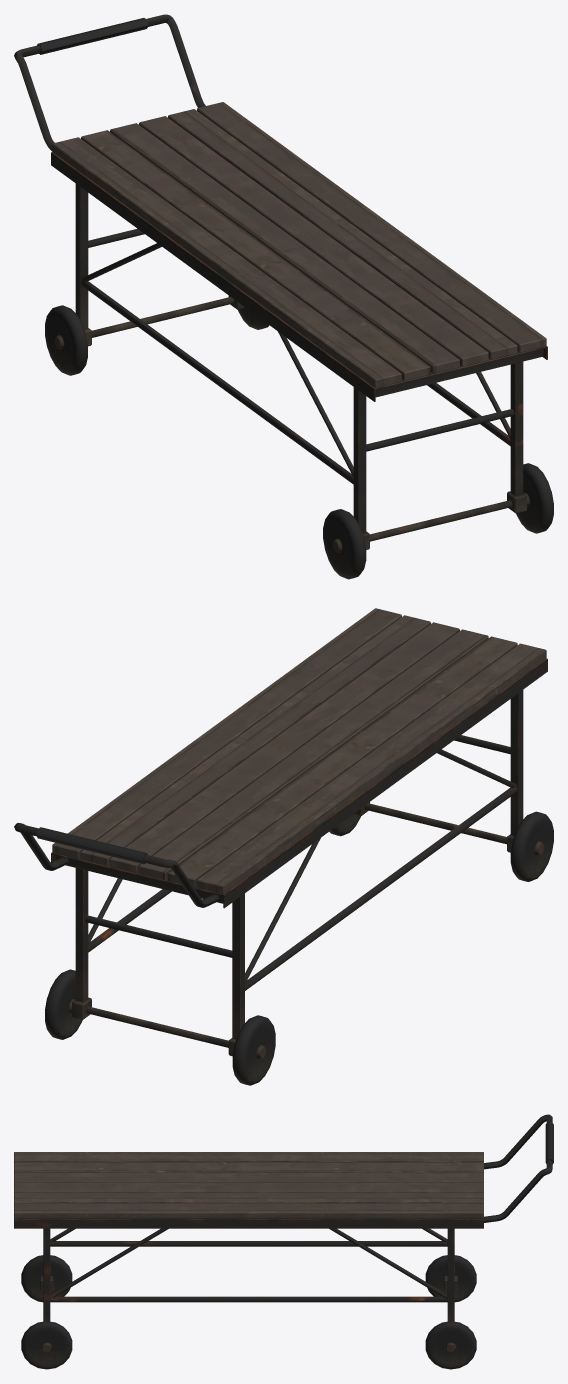
The model's file is bier.glb.
The picture shows the model from 3 angles, top to bottom: view 1: azimuth 30°, elevation 25°; view 2: azimuth 150°, elevation 25°; view 3: azimuth 270°, elevation 25°; orthographic projection. The views are drawn at different scales.
Visible parts, largest first — view 1: bier, wheel_fr, wheel_rr, wheel_fl; view 2: bier, wheel_rr, wheel_fr, wheel_rl; view 3: bier, wheel_rl, wheel_fl, wheel_fr, wheel_rr.
Boxes of the visible parts, left/top/right/bottom form: bier: left=14, top=14, right=547, bottom=549; wheel_fr: left=323, top=509, right=366, bottom=579; wheel_rr: left=45, top=305, right=87, bottom=375; wheel_fl: left=516, top=463, right=553, bottom=533; bier: left=14, top=608, right=547, bottom=1056; wheel_rr: left=232, top=1015, right=275, bottom=1085; wheel_fr: left=510, top=811, right=553, bottom=881; wheel_rl: left=45, top=969, right=82, bottom=1039; bier: left=14, top=1114, right=553, bottom=1321; wheel_rl: left=425, top=1321, right=476, bottom=1369; wheel_fl: left=21, top=1321, right=72, bottom=1369; wheel_fr: left=21, top=1255, right=72, bottom=1302; wheel_rr: left=425, top=1255, right=476, bottom=1302.
Size of the model in its own units: 0.734 by 0.9156 by 2.3.
1 material, 1 textured.
